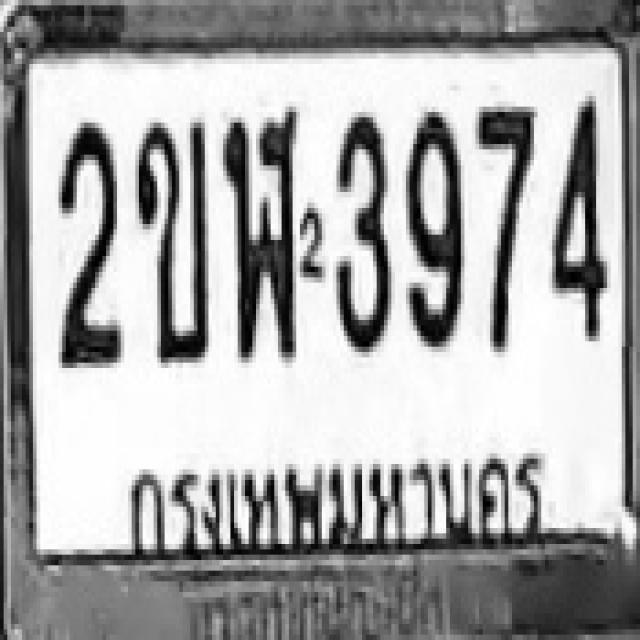11KhorKhai: (133, 118, 212, 370)
2: (55, 120, 121, 365)
3: (333, 110, 393, 353)
4: (550, 99, 608, 344)
51LorChula: (222, 106, 299, 366)
7: (475, 104, 536, 356)
9: (402, 106, 466, 352)
Bangkok: (111, 426, 544, 549)
